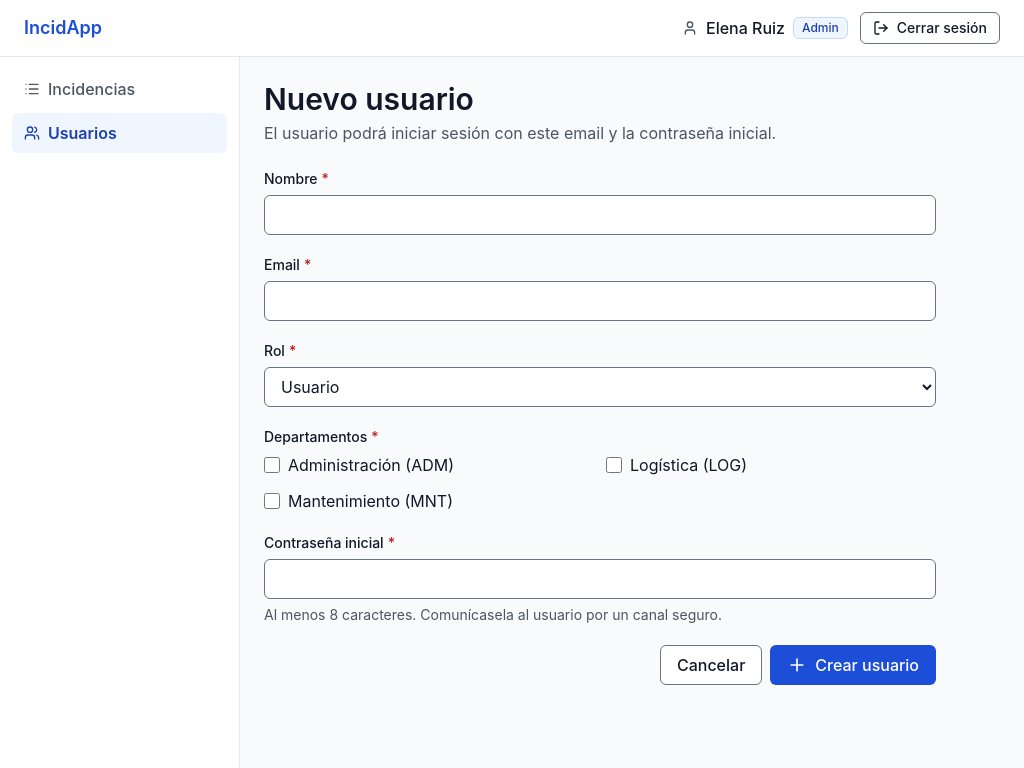
it: CA-02.19 · alta de usuario › otro error de la API se muestra en un `Alert` del formulario
This screenshot has width=1024, height=768.
Expected: the button "Crear usuario" is shown, [770,645,936,685]
Type "Lucía Gil" into the field labelled "Nombre*" at (600, 215), box [264,195,936,235]
Type "lucia.gil@incidapp.test" into the field labelled "Email*" at (600, 301), box [264,281,936,321]
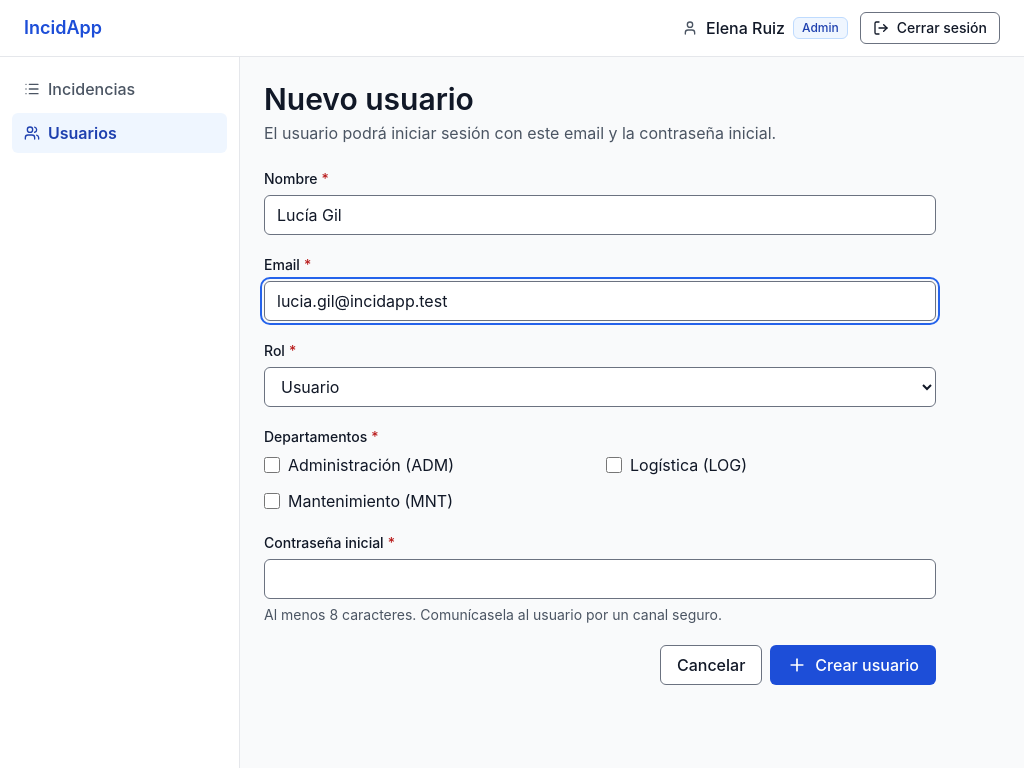
Select "Responsable" in the dropdown labelled "Rol*" at (600, 387), box [264,367,936,407]
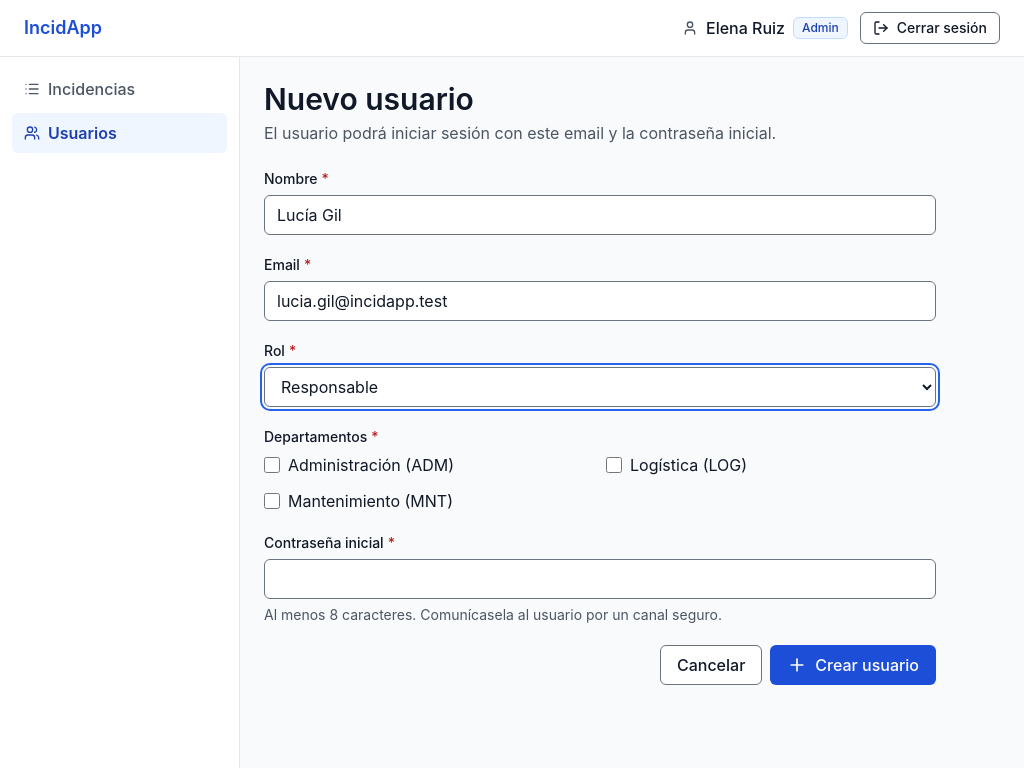
Click the checkbox labelled "Logística (LOG)" at (614, 465), box [606,457,622,473]
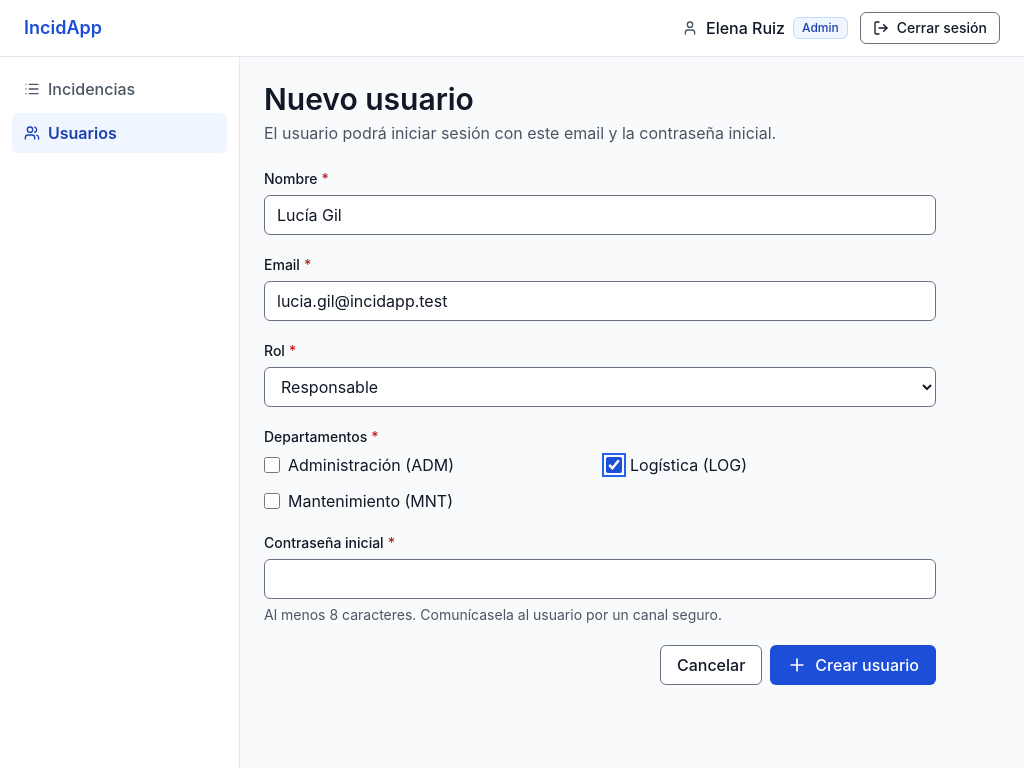
Click the checkbox labelled "Mantenimiento (MNT)" at (272, 501), box [264,493,280,509]
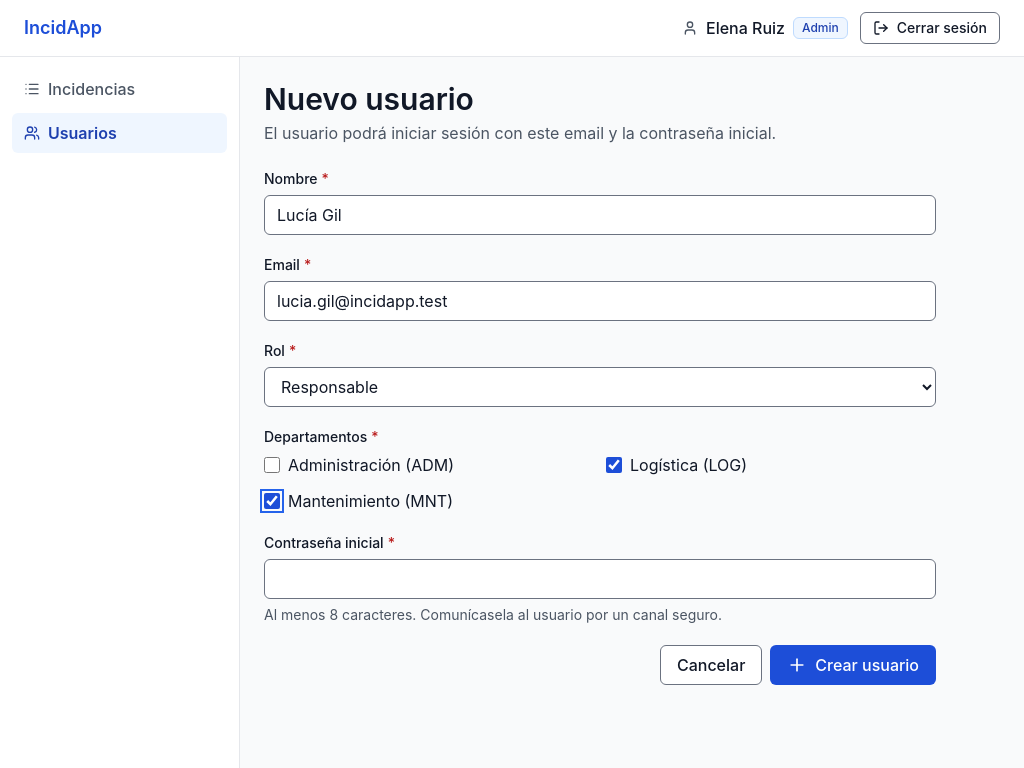
Type "Segura2026!" into the password field labelled "Contraseña inicial*" at (600, 579), box [264,559,936,599]
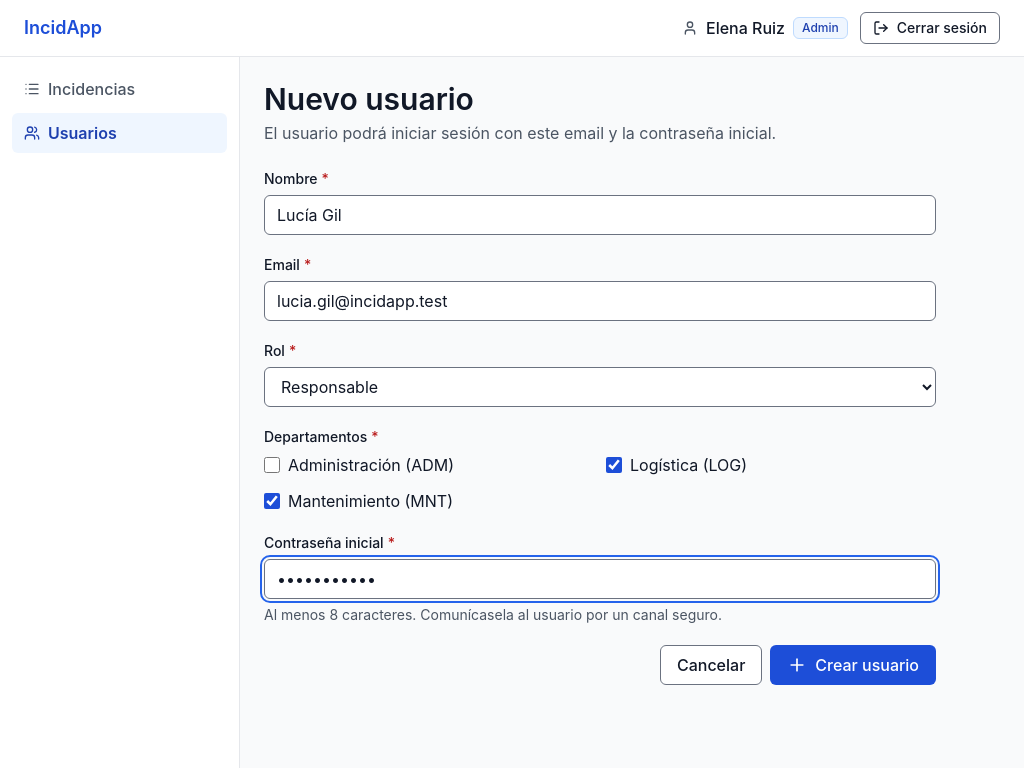
Click the button "Crear usuario" at (853, 665), box [770,645,936,685]
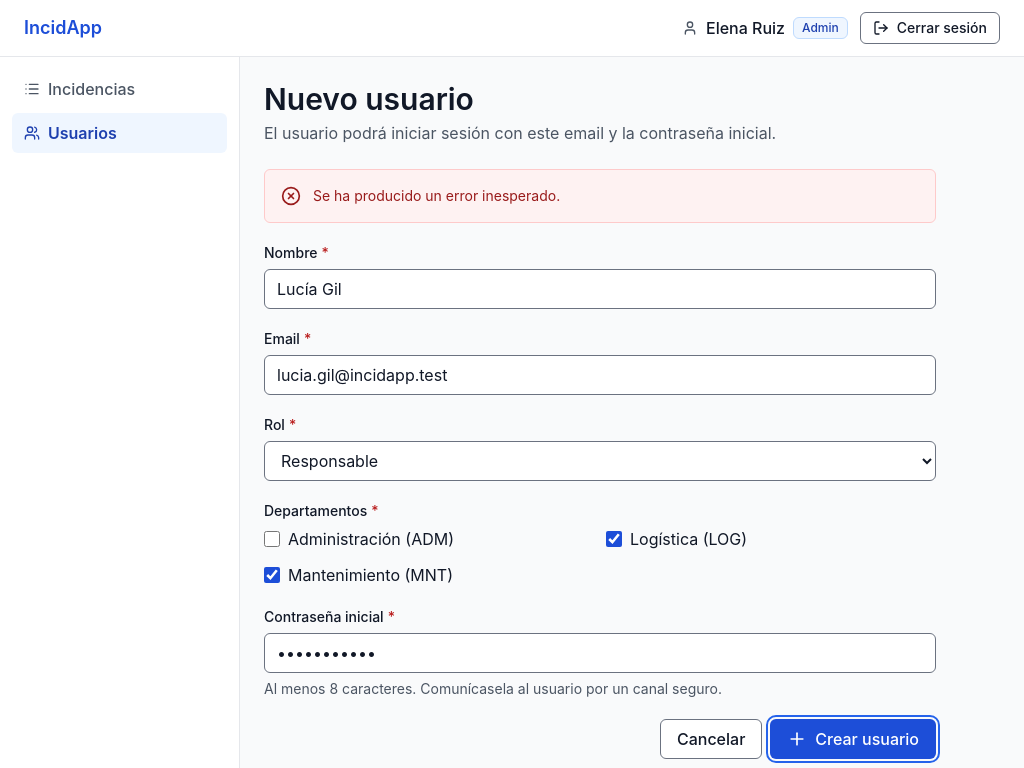
Result: the message reads "Se ha producido un error inesperado." at [313,187,560,204]
